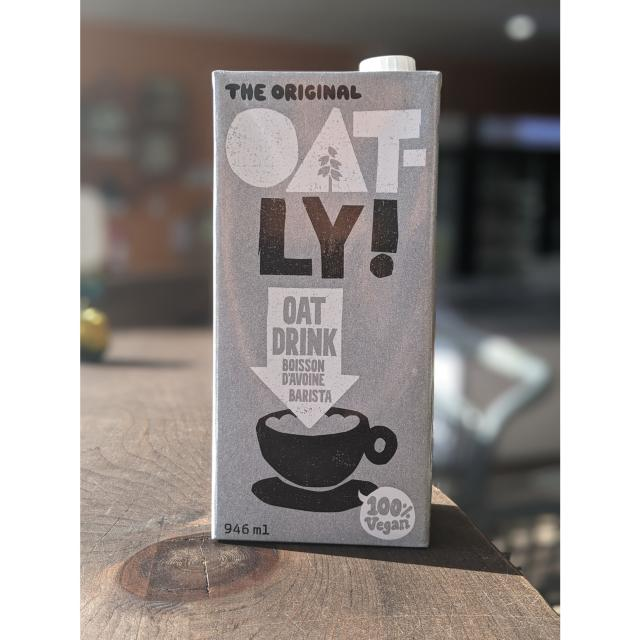cardboard: (198, 52, 466, 547)
